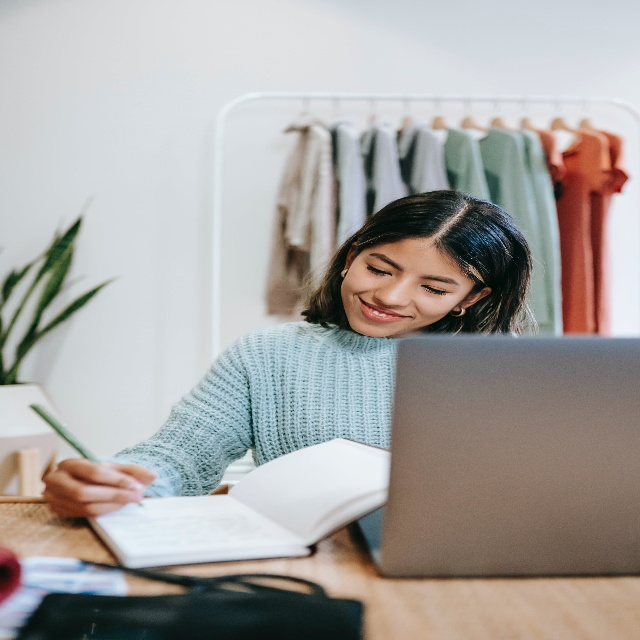Sin_guantes: (43, 456, 154, 512)
